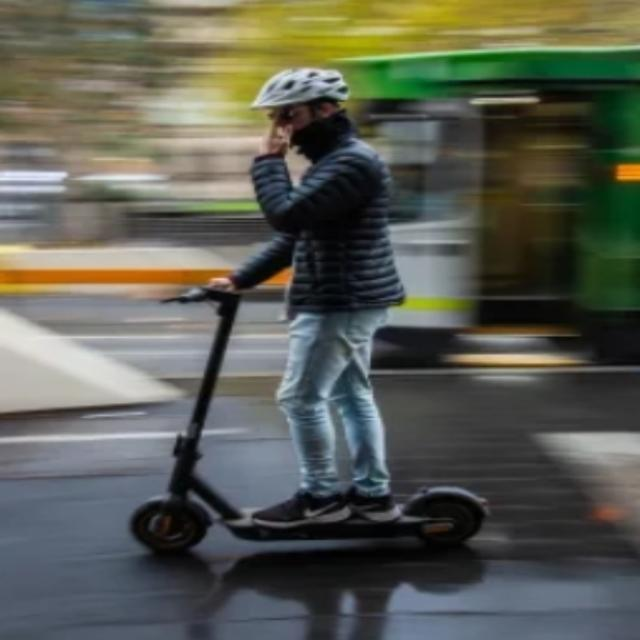Helmet: (249, 56, 361, 156)
